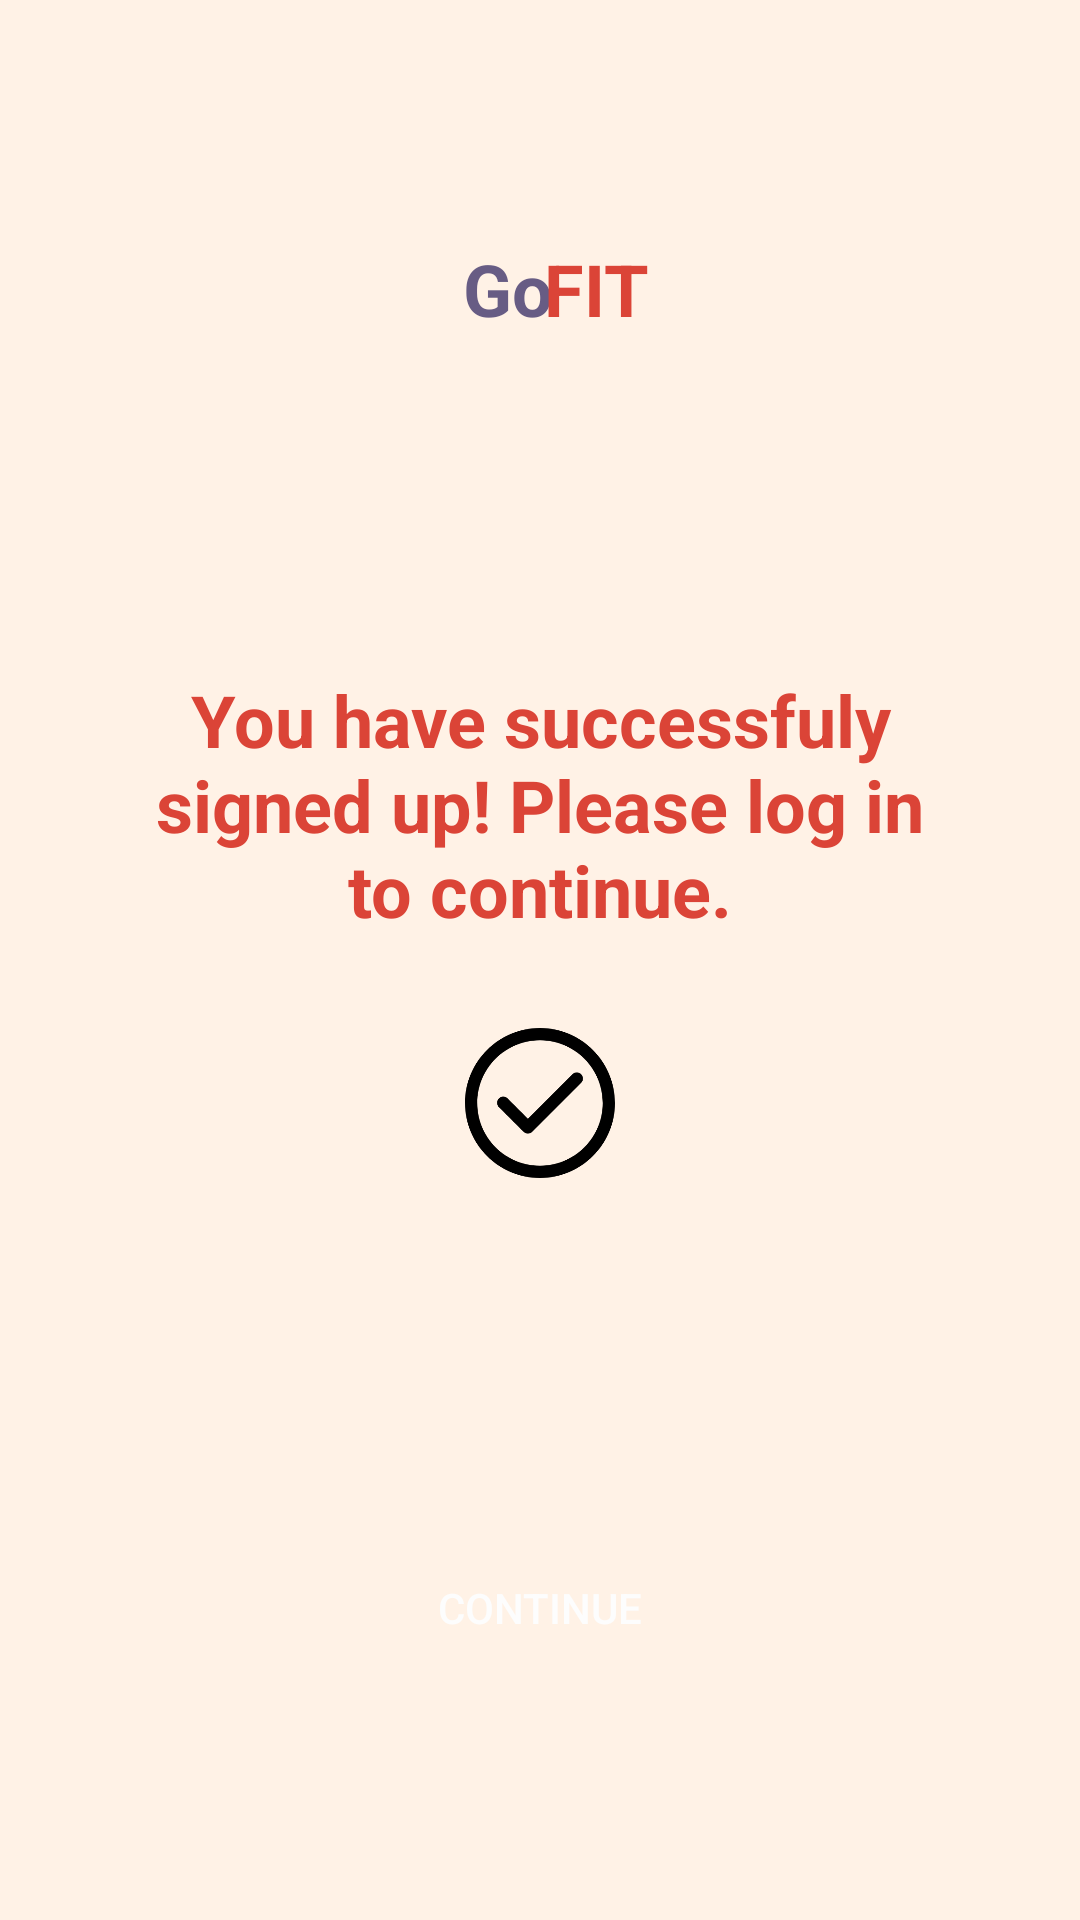

Icons on this 1080x1920 Android screen, each with its box as (x1=x1, y1=y1, x2=x2, y2=y2):
check: (x1=465, y1=1028, x2=615, y2=1178)
